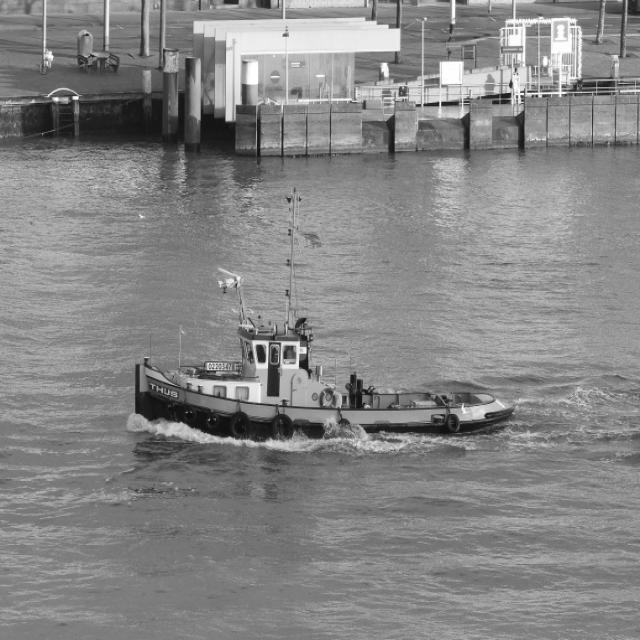tugboat: (132, 263, 519, 446)
